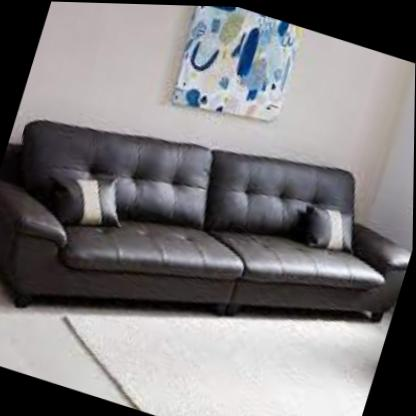Sofa: (0, 62, 415, 416)
